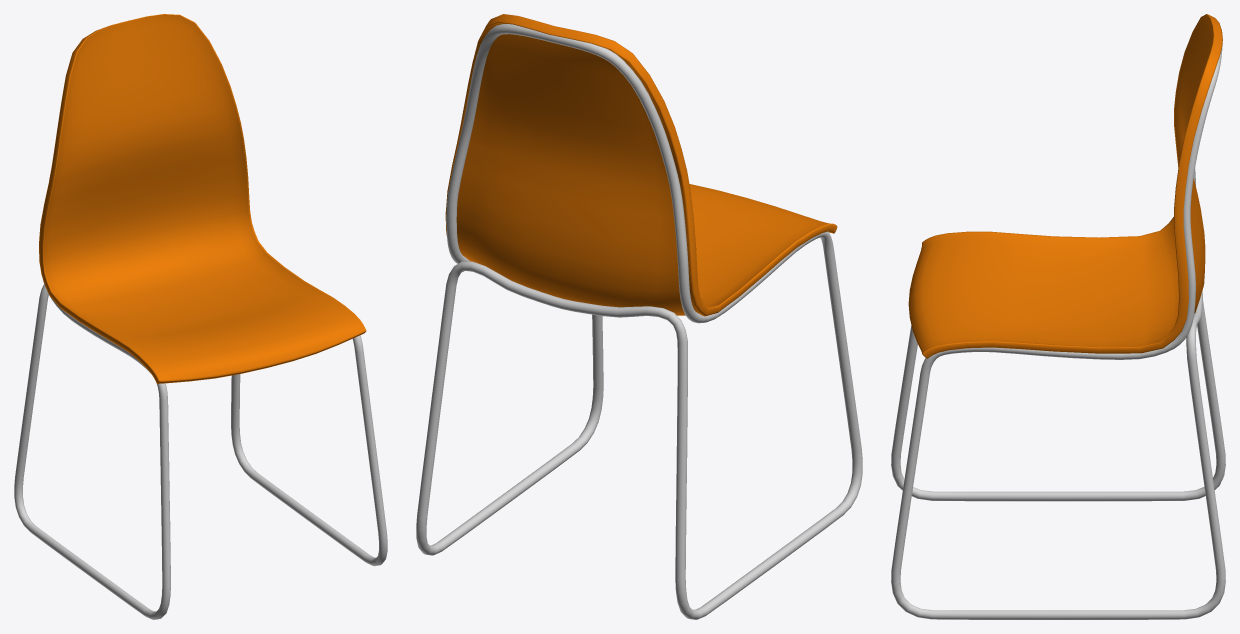
The model's file is plastic_chair.glb.
3 renders of one model, left to right at view 1: azimuth 30°, elevation 25°; view 2: azimuth 150°, elevation 25°; view 3: azimuth 270°, elevation 25°, orthographic. The views are drawn at different scales.
Visible parts, largest first — view 1: plastic_chair; view 2: plastic_chair; view 3: plastic_chair.
Part boxes in pixels (box(x1,y1,x2,y2)): plastic_chair: box(14, 14, 387, 619); plastic_chair: box(416, 14, 862, 619); plastic_chair: box(891, 14, 1225, 619).
Size of the model in its own units: 4.06 by 8.1 by 4.68.
